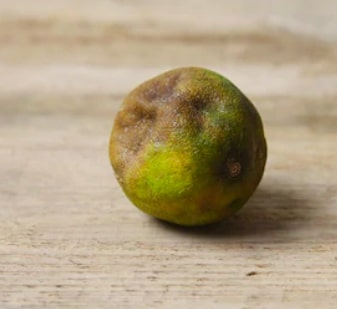damaged_lime: (108, 69, 263, 221)
